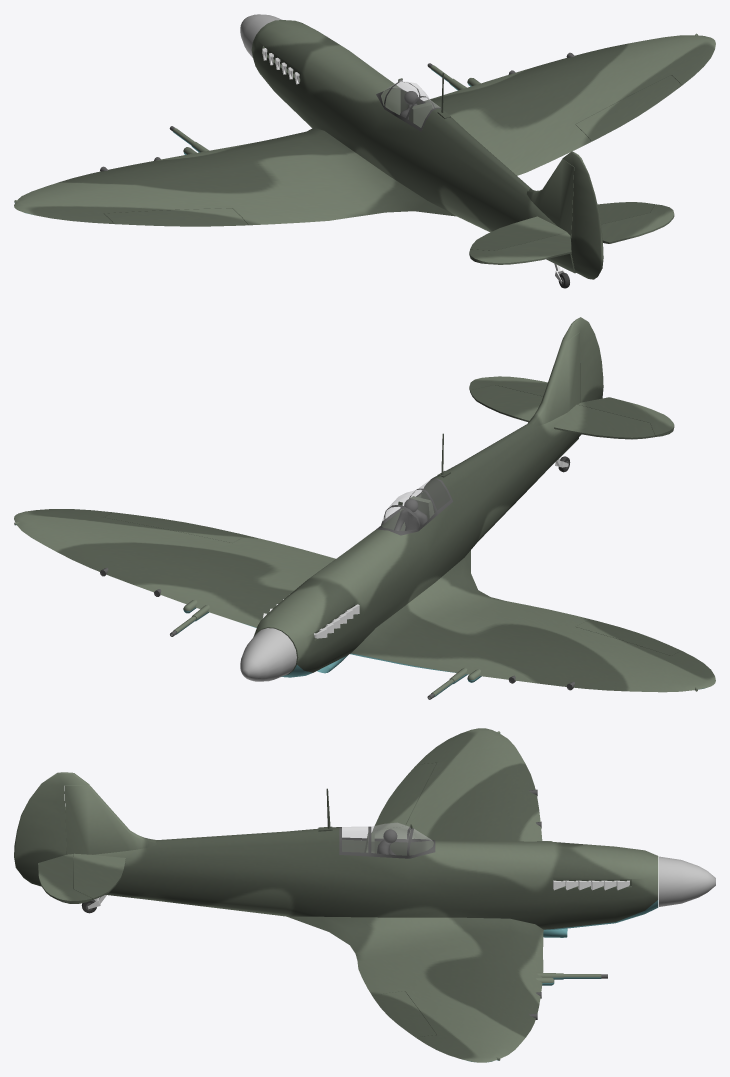
The model's file is Spitfire_joined.glb.
The picture shows the model from 3 angles, top to bottom: view 1: azimuth 30°, elevation 25°; view 2: azimuth 150°, elevation 25°; view 3: azimuth 270°, elevation 25°; orthographic projection.
Parts seen in each view (by area): view 1: Fuselage_150.205mps_3004kg_22.49m2; view 2: Fuselage_150.205mps_3004kg_22.49m2; view 3: Fuselage_150.205mps_3004kg_22.49m2.
Part boxes in pixels (<box>): Fuselage_150.205mps_3004kg_22.49m2: <box>14,14,715,288</box>; Fuselage_150.205mps_3004kg_22.49m2: <box>14,317,715,699</box>; Fuselage_150.205mps_3004kg_22.49m2: <box>14,728,715,1062</box>.
Size of the model in its own units: 11.19 by 2.6 by 9.93.
Materials: 7 (1 with a texture image).
